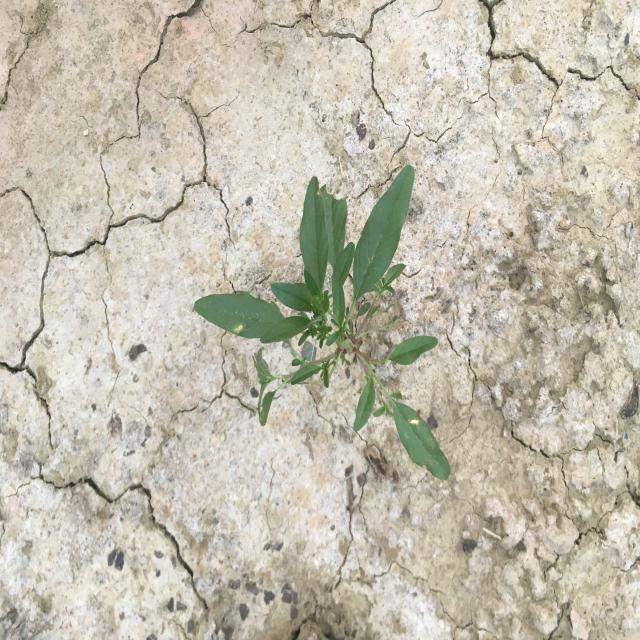Waterhemp: (192, 162, 454, 484)
